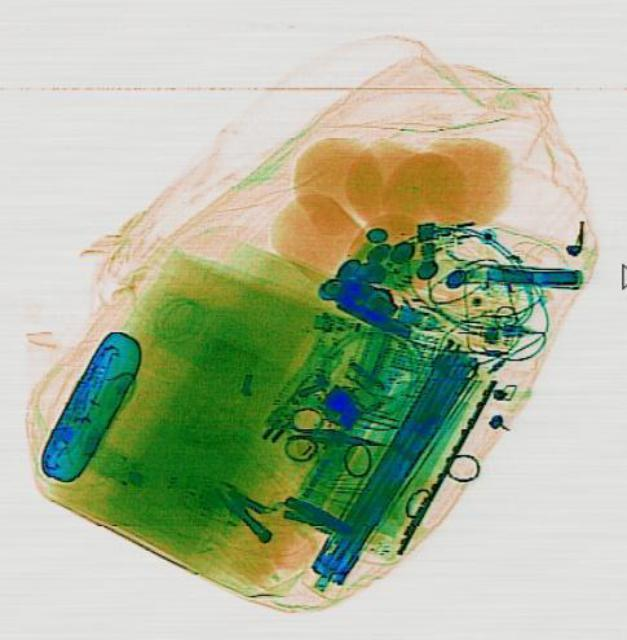Scissors: (280, 402, 385, 472)
